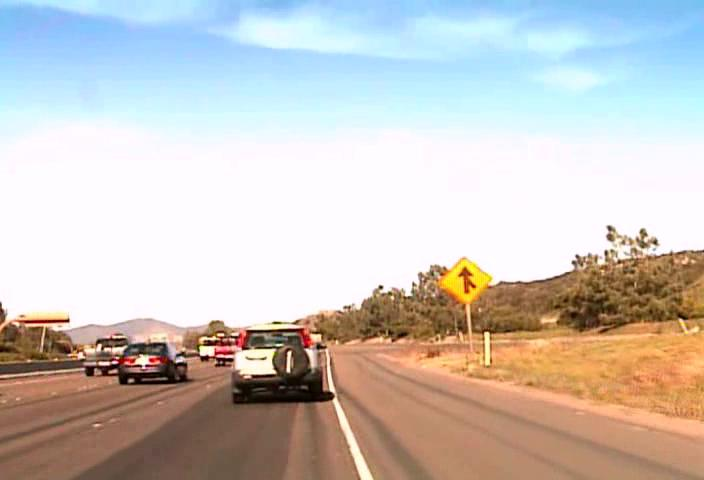merge: (437, 255, 492, 304)
